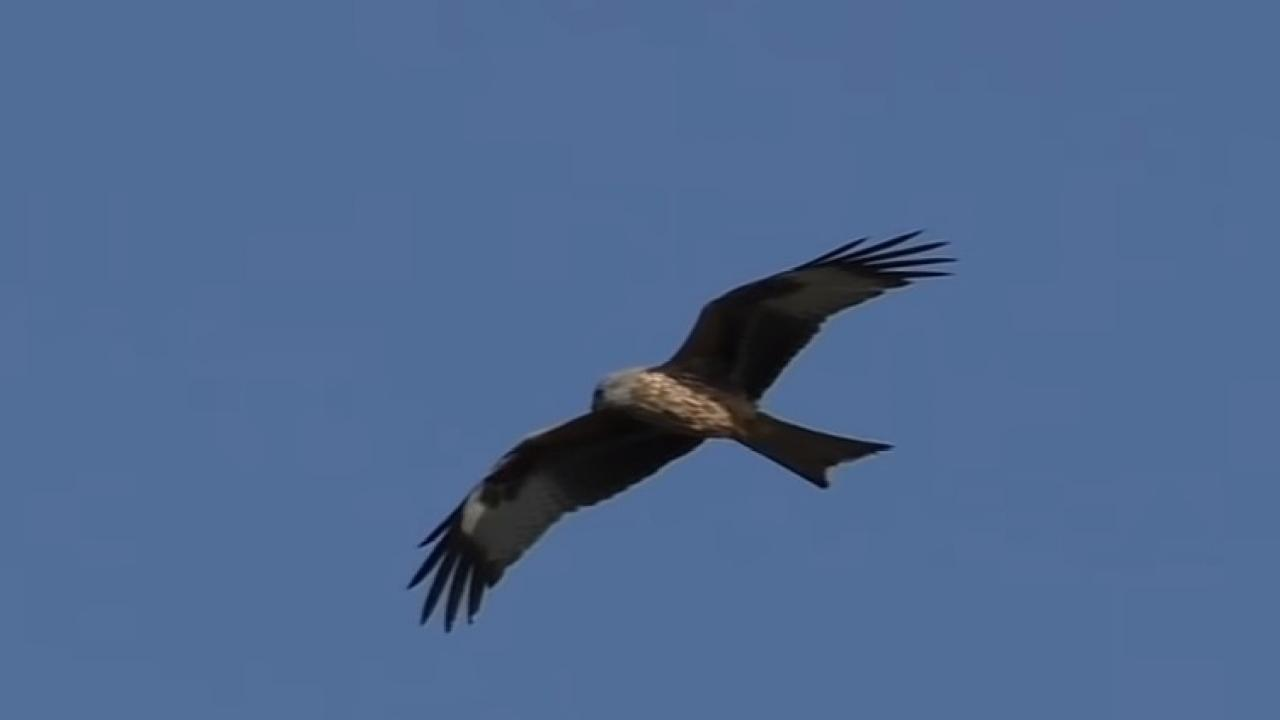Bird: (396, 221, 977, 645)
